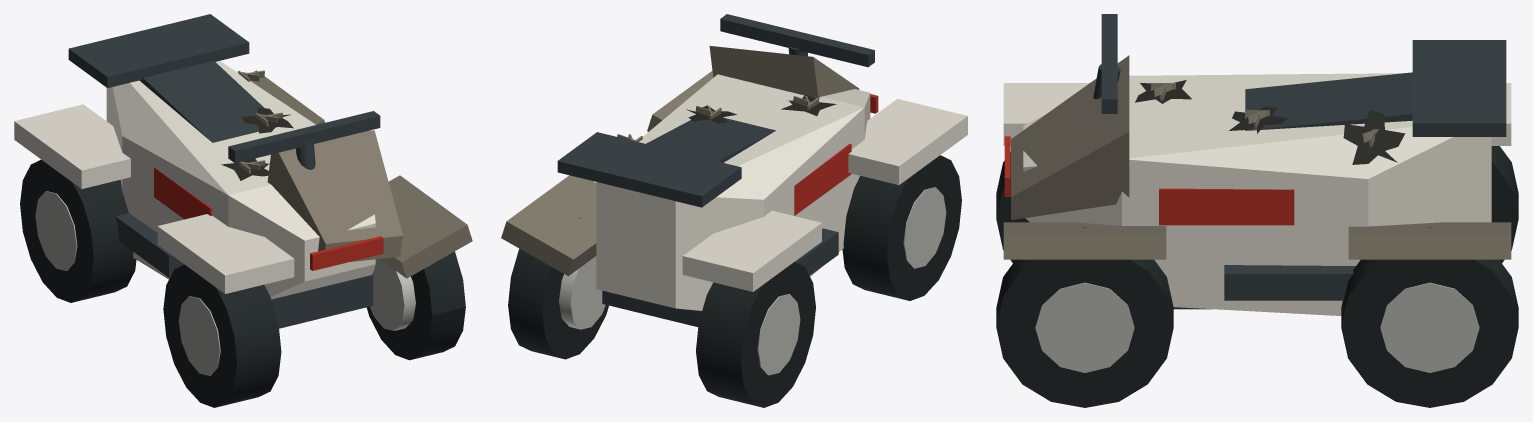
3 views of the same model, side by side, from view 1: azimuth 30°, elevation 25°; view 2: azimuth 150°, elevation 25°; view 3: azimuth 270°, elevation 25° (orthographic). The views are drawn at different scales.
Parts seen in each view (by area): view 1: atv-damaged-fleet-armor, atv-damaged-fleet-machine, atv-damaged-fleet-damage-metal, wheel--1-0.7-fleet-rubber, wheel--1--0.7-fleet-rubber, wheel-1-0.7-fleet-rubber, steering-fleet-machine, atv-damaged-fleet-red, wheel--1--0.7-fleet-edge, wheel--1-0.7-fleet-edge, wheel-1-0.7-fleet-edge, atv-damaged-fleet-damage-charred; view 2: atv-damaged-fleet-armor, atv-damaged-fleet-machine, atv-damaged-fleet-damage-metal, wheel--1--0.7-fleet-rubber, wheel--1-0.7-fleet-rubber, wheel-1--0.7-fleet-rubber, steering-fleet-machine, wheel--1--0.7-fleet-edge, wheel--1-0.7-fleet-edge, wheel-1--0.7-fleet-edge, atv-damaged-fleet-red, atv-damaged-fleet-damage-charred; view 3: atv-damaged-fleet-armor, atv-damaged-fleet-damage-metal, atv-damaged-fleet-machine, wheel-1-0.7-fleet-rubber, wheel-1--0.7-fleet-rubber, wheel-1--0.7-fleet-edge, wheel-1-0.7-fleet-edge, atv-damaged-fleet-red, atv-damaged-fleet-damage-charred, wheel--1--0.7-fleet-rubber, steering-fleet-machine, wheel--1-0.7-fleet-rubber.
Part boxes in pixels (x1,y1,x2,y2): atv-damaged-fleet-armor: [14, 61, 375, 299]; atv-damaged-fleet-machine: [68, 14, 373, 328]; atv-damaged-fleet-damage-metal: [237, 70, 472, 278]; wheel--1-0.7-fleet-rubber: [163, 264, 281, 407]; wheel--1--0.7-fleet-rubber: [20, 159, 136, 302]; wheel-1-0.7-fleet-rubber: [366, 251, 465, 360]; steering-fleet-machine: [228, 111, 380, 169]; atv-damaged-fleet-red: [154, 167, 383, 270]; wheel--1--0.7-fleet-edge: [35, 191, 77, 270]; wheel--1-0.7-fleet-edge: [178, 296, 220, 375]; wheel-1-0.7-fleet-edge: [370, 259, 415, 330]; atv-damaged-fleet-damage-charred: [221, 107, 293, 180]; atv-damaged-fleet-armor: [596, 74, 967, 310]; atv-damaged-fleet-machine: [557, 118, 838, 326]; atv-damaged-fleet-damage-metal: [501, 45, 859, 276]; wheel--1--0.7-fleet-rubber: [696, 262, 815, 407]; wheel--1-0.7-fleet-rubber: [842, 155, 961, 300]; wheel-1--0.7-fleet-rubber: [508, 218, 608, 359]; steering-fleet-machine: [720, 14, 874, 67]; wheel--1--0.7-fleet-edge: [757, 294, 800, 375]; wheel--1-0.7-fleet-edge: [903, 187, 946, 268]; wheel-1--0.7-fleet-edge: [559, 256, 605, 329]; atv-damaged-fleet-red: [794, 94, 878, 215]; atv-damaged-fleet-damage-charred: [686, 94, 836, 123]; atv-damaged-fleet-armor: [1003, 73, 1511, 315]; atv-damaged-fleet-damage-metal: [1003, 55, 1511, 259]; atv-damaged-fleet-machine: [1173, 40, 1506, 309]; wheel-1-0.7-fleet-rubber: [996, 227, 1173, 407]; wheel-1--0.7-fleet-rubber: [1341, 227, 1518, 407]; wheel-1--0.7-fleet-edge: [1380, 282, 1479, 372]; wheel-1-0.7-fleet-edge: [1035, 282, 1134, 372]; atv-damaged-fleet-red: [1004, 136, 1294, 225]; atv-damaged-fleet-damage-charred: [1135, 80, 1405, 164]; wheel--1--0.7-fleet-rubber: [1491, 146, 1518, 262]; steering-fleet-machine: [1093, 14, 1120, 113]; wheel--1-0.7-fleet-rubber: [996, 152, 1029, 262].
Size of the model in its own units: 7.62 by 6.95 by 11.58.
